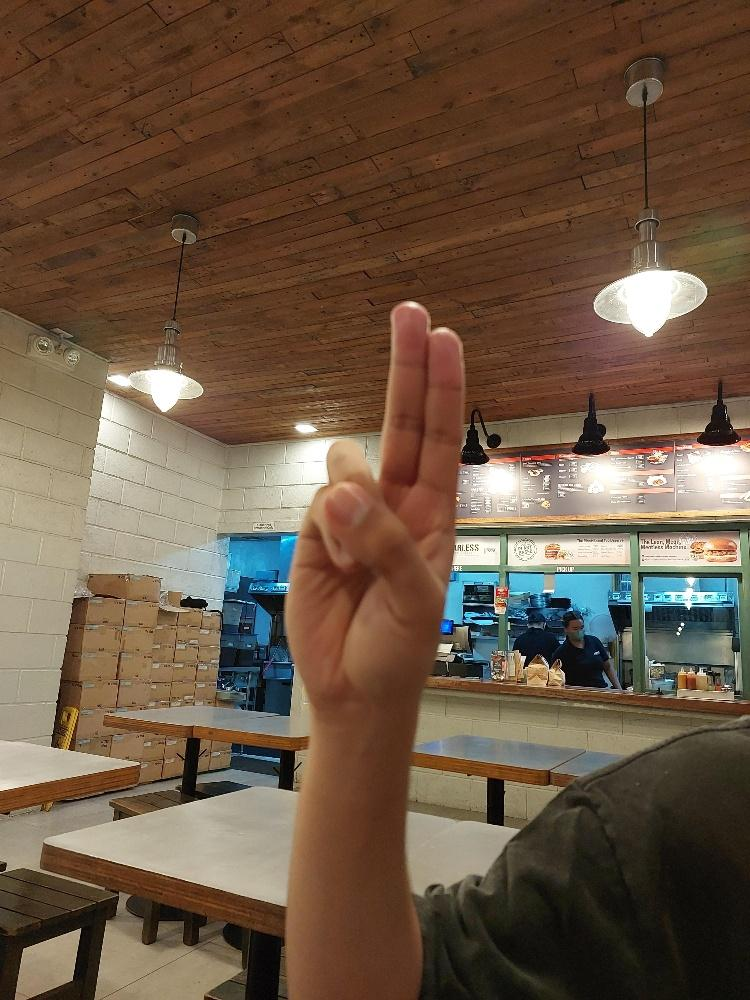u: (282, 298, 466, 730)
